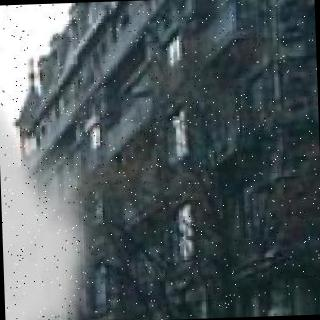smoke: (0, 43, 106, 320)
